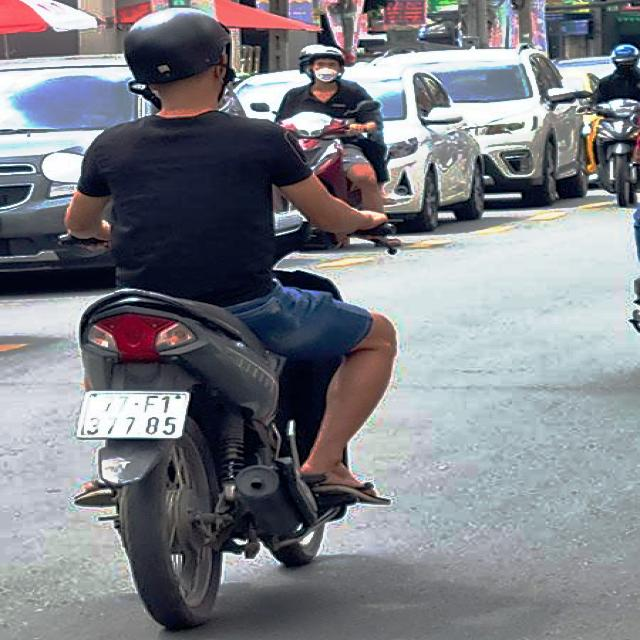license_plate: (80, 389, 194, 440)
